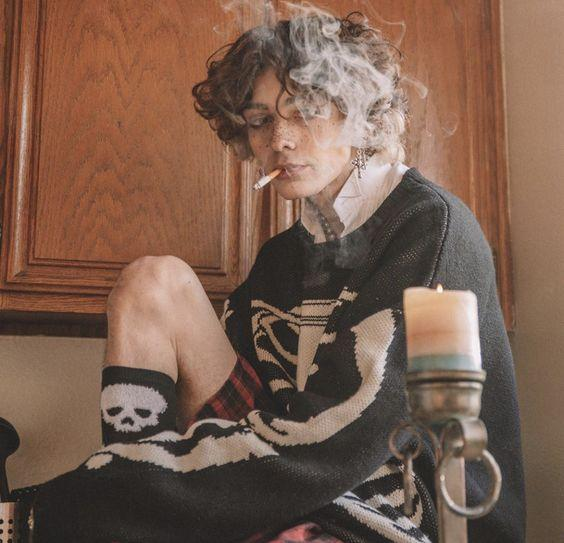cigarette: (252, 168, 282, 191)
